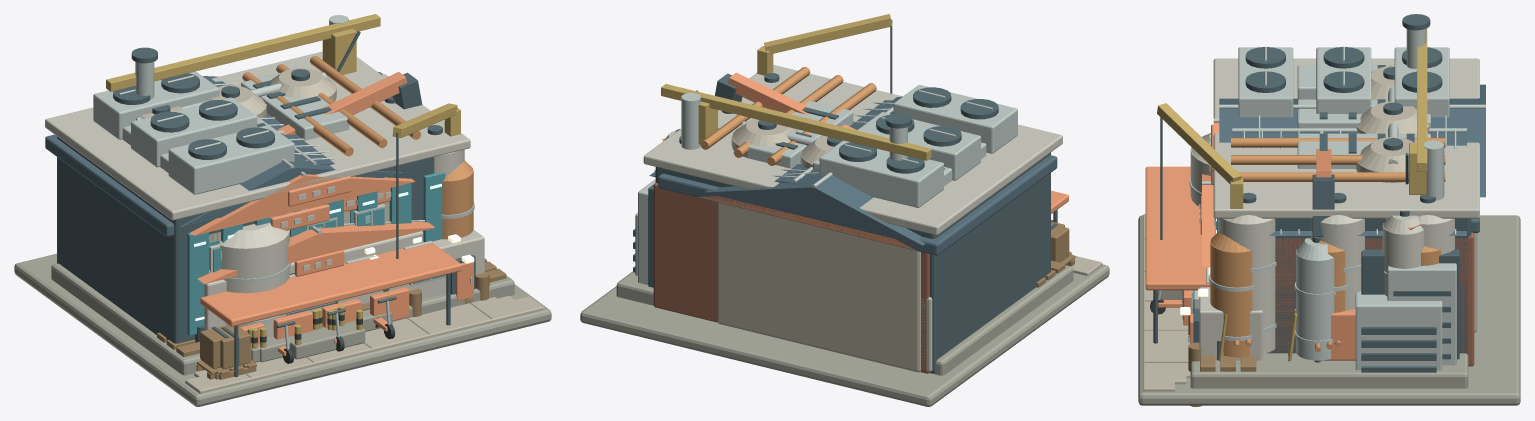
Rendered from library.glb.
3 views of the same model, side by side, from view 1: azimuth 30°, elevation 25°; view 2: azimuth 150°, elevation 25°; view 3: azimuth 270°, elevation 25° (orthographic). The views are drawn at different scales.
Parts seen in each view (by area): view 1: asset_factory_crypto, asset_factory_energy_drinks, asset_factory_scooters, asset_site_sugar, asset_site_oil, asset_construction, asset_port, asset_factory_yogurts, asset_factory_gadgets, asset_site_chips, asset_site_lithium, asset_extension_warehouse; view 2: asset_factory_crypto, asset_factory_yogurts, asset_factory_energy_drinks, asset_factory_scooters, asset_port, asset_factory_gadgets, asset_construction, asset_site_chips, asset_site_sugar, asset_site_oil, asset_site_lithium; view 3: asset_factory_crypto, asset_factory_energy_drinks, asset_factory_scooters, asset_factory_yogurts, asset_port, asset_site_chips, asset_site_sugar, asset_site_lithium, asset_construction, asset_factory_gadgets, asset_site_oil.
Boxes of the visible parts, x1=… form: asset_factory_crypto: x1=45, y1=51, x2=470, y2=343; asset_factory_energy_drinks: x1=14, y1=47, x2=551, y2=406; asset_factory_scooters: x1=200, y1=15, x2=462, y2=377; asset_site_sugar: x1=136, y1=68, x2=474, y2=359; asset_site_oil: x1=194, y1=72, x2=522, y2=382; asset_construction: x1=106, y1=14, x2=499, y2=344; asset_port: x1=51, y1=103, x2=514, y2=375; asset_factory_yogurts: x1=180, y1=76, x2=464, y2=379; asset_factory_gadgets: x1=45, y1=134, x2=383, y2=379; asset_site_chips: x1=122, y1=72, x2=388, y2=172; asset_site_lithium: x1=383, y1=229, x2=484, y2=300; asset_extension_warehouse: x1=312, y1=292, x2=392, y2=331; asset_factory_crypto: x1=633, y1=65, x2=1062, y2=373; asset_factory_yogurts: x1=679, y1=73, x2=1071, y2=372; asset_factory_energy_drinks: x1=580, y1=113, x2=1109, y2=406; asset_factory_scooters: x1=649, y1=93, x2=1068, y2=373; asset_port: x1=616, y1=14, x2=1073, y2=375; asset_factory_gadgets: x1=638, y1=155, x2=1075, y2=284; asset_construction: x1=627, y1=84, x2=931, y2=374; asset_site_chips: x1=664, y1=100, x2=986, y2=186; asset_site_sugar: x1=731, y1=119, x2=842, y2=168; asset_site_oil: x1=715, y1=72, x2=1074, y2=274; asset_site_lithium: x1=648, y1=138, x2=664, y2=287; asset_factory_crypto: x1=1198, y1=46, x2=1479, y2=372; asset_factory_energy_drinks: x1=1138, y1=14, x2=1520, y2=405; asset_factory_scooters: x1=1145, y1=128, x2=1474, y2=366; asset_factory_yogurts: x1=1217, y1=84, x2=1485, y2=353; asset_port: x1=1157, y1=103, x2=1468, y2=406; asset_site_chips: x1=1294, y1=65, x2=1430, y2=362; asset_site_sugar: x1=1160, y1=64, x2=1429, y2=361; asset_site_lithium: x1=1180, y1=218, x2=1459, y2=360; asset_construction: x1=1179, y1=28, x2=1481, y2=379; asset_factory_gadgets: x1=1387, y1=218, x2=1479, y2=365; asset_site_oil: x1=1157, y1=133, x2=1504, y2=384.
Bounding box in the file's own units: 0.74 × 0.5075 × 0.66.
